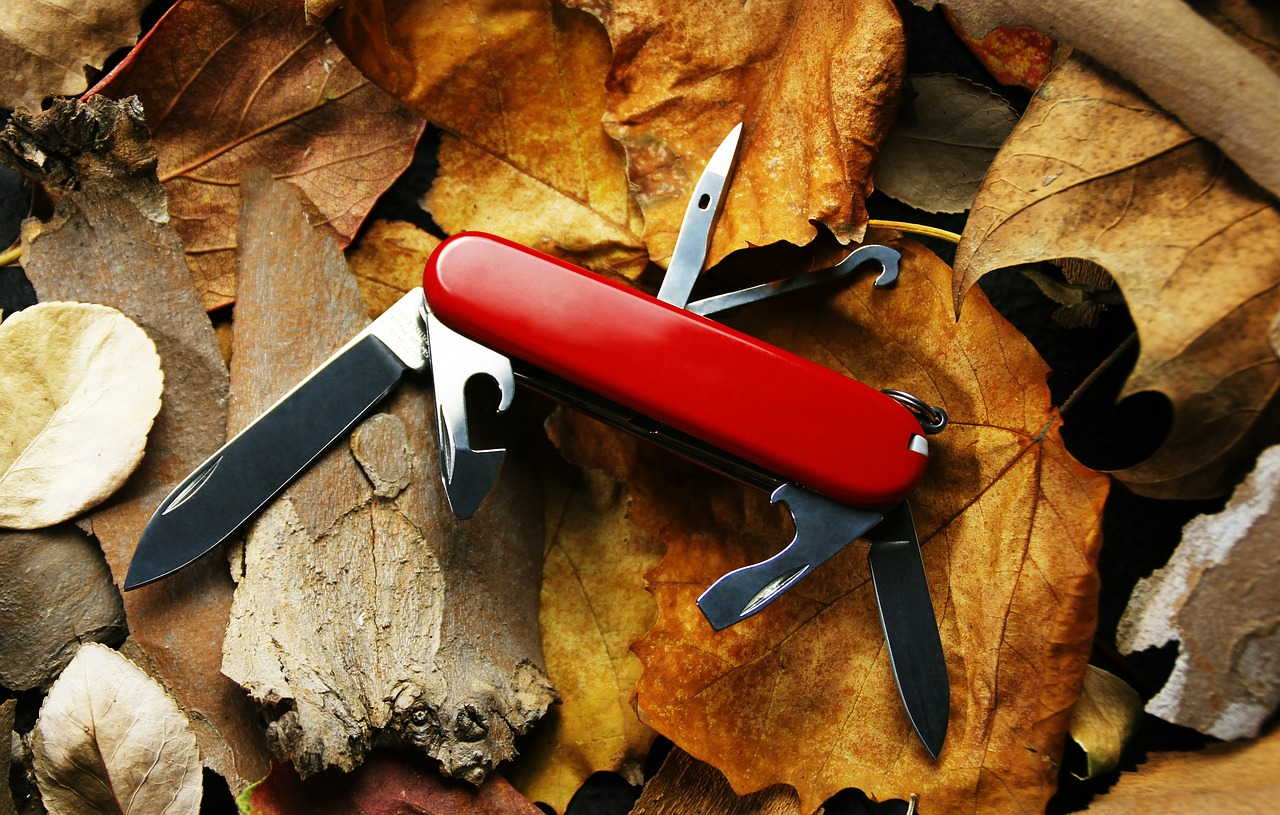knife: (113, 279, 429, 595), (688, 476, 883, 632), (863, 510, 959, 761), (420, 305, 518, 524), (648, 114, 748, 311)
